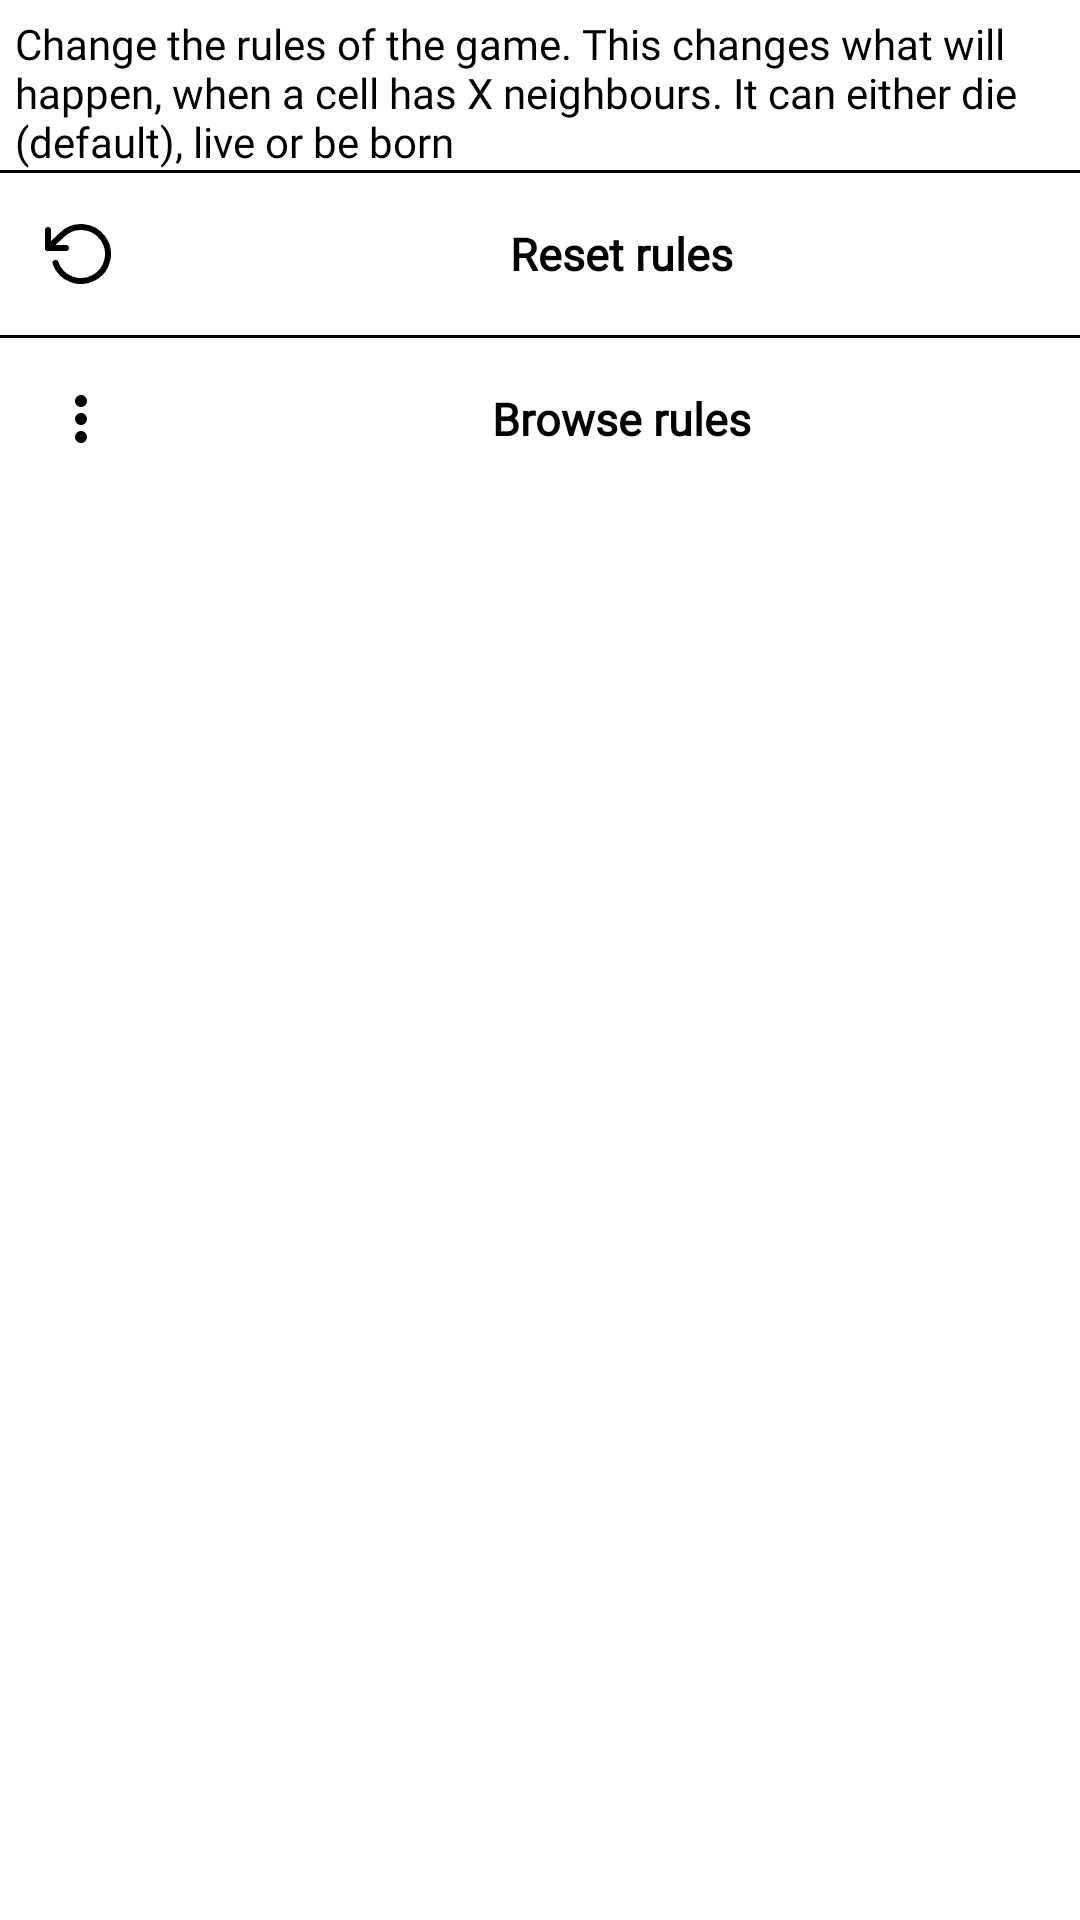

Named icons in this screenshot (1080 x 1920) and their bounding boxes, (x1, y1, x2, y2):
more vert: (75, 395, 87, 443)
rotate ccw: (45, 224, 111, 285)
